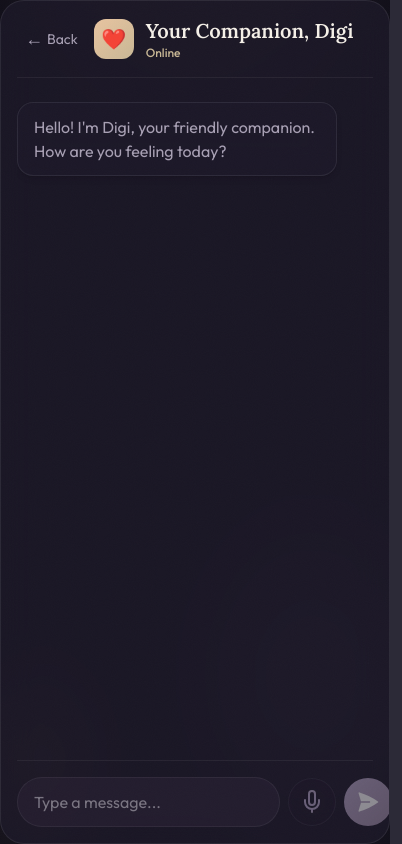
Test case: AICompanion › sends typed message on Enter
Step 1. Type "hello there" into the field with placeholder "Type a message..." → (148, 802), box left=17, top=777, right=280, bottom=827
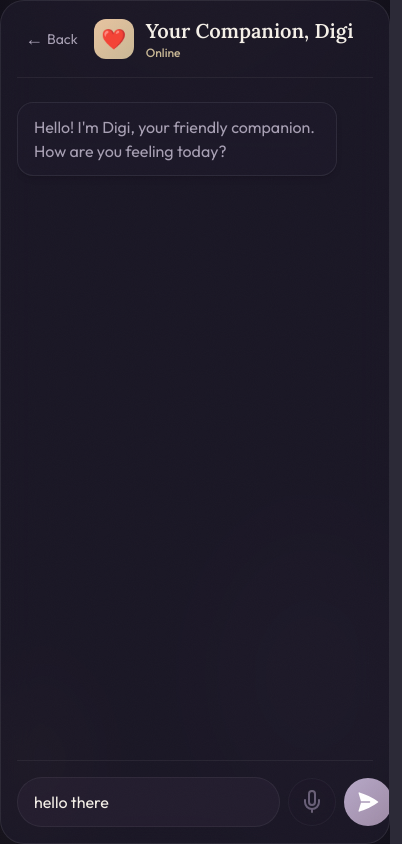
Step 2. Press Enter in the field with placeholder "Type a message...", box left=17, top=777, right=280, bottom=827
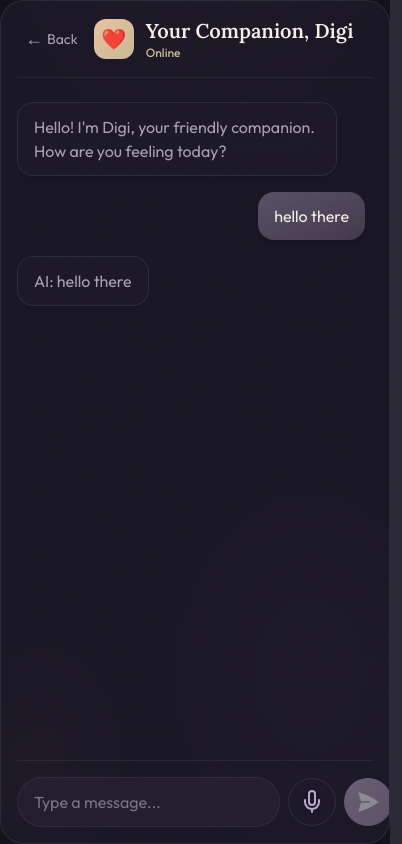
expect the text "AI: hello there" is shown: met, box left=17, top=256, right=149, bottom=306
